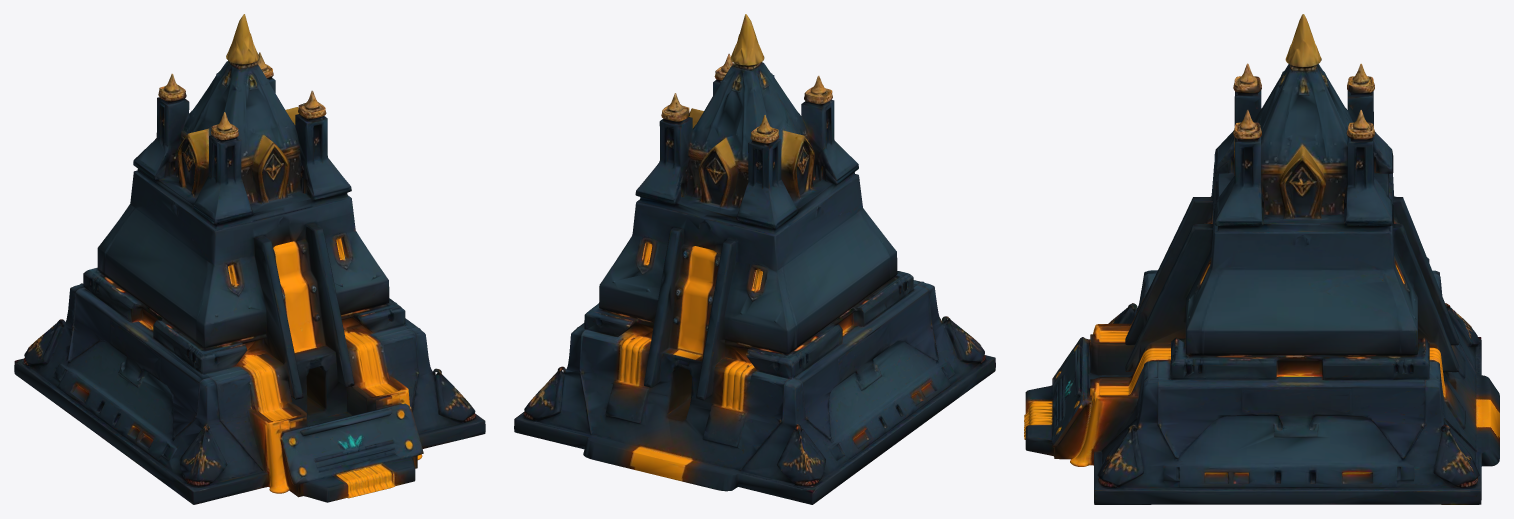
The model's file is hero-fortress.glb.
3 views of the same model, side by side, from view 1: azimuth 30°, elevation 25°; view 2: azimuth 150°, elevation 25°; view 3: azimuth 270°, elevation 25° (orthographic). The views are drawn at different scales.
Parts seen in each view (by area): view 1: node_0; view 2: node_0; view 3: node_0.
Boxes of the visible parts, box(x1,y1,x2,y2) form: node_0: box(14, 14, 485, 504); node_0: box(514, 14, 995, 504); node_0: box(1024, 14, 1499, 504).
Bounding box in the file's own units: 0.6011 × 0.7547 × 0.7842.
Materials: 1 (1 with a texture image).
